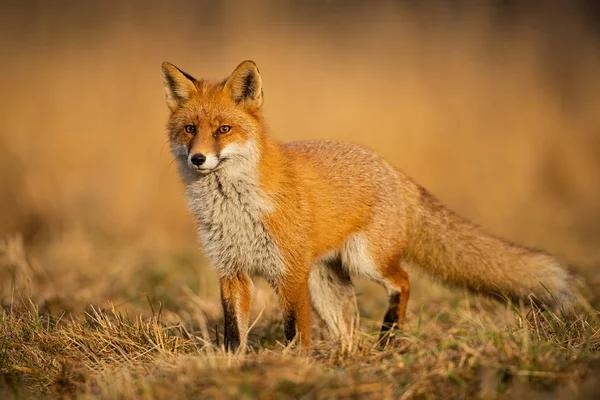fox: (156, 58, 579, 361)
